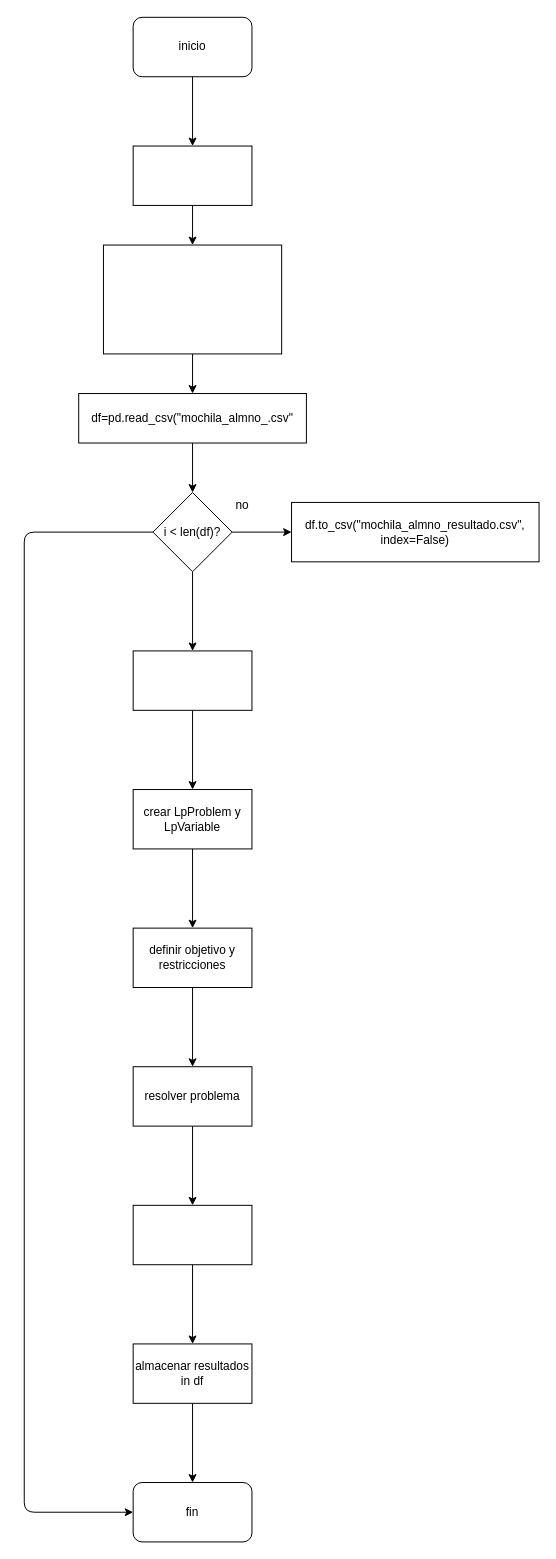
Image size: 556x1559. Some labels were removed from this diagram. Here are the shapes that lost their labels. From the top down, the centre of each, then its label:
(192,175): import pandas as pd
(192,299): from pulp import LpProblem, LpVariable,LpMaximize,lpSum, LpBinary, Value
(192,680): extraer datos de la fila
(192,1234): extraer resultados df
